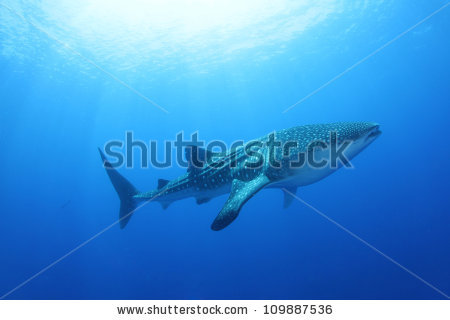Rhincodon_typusw: (79, 106, 398, 244)
